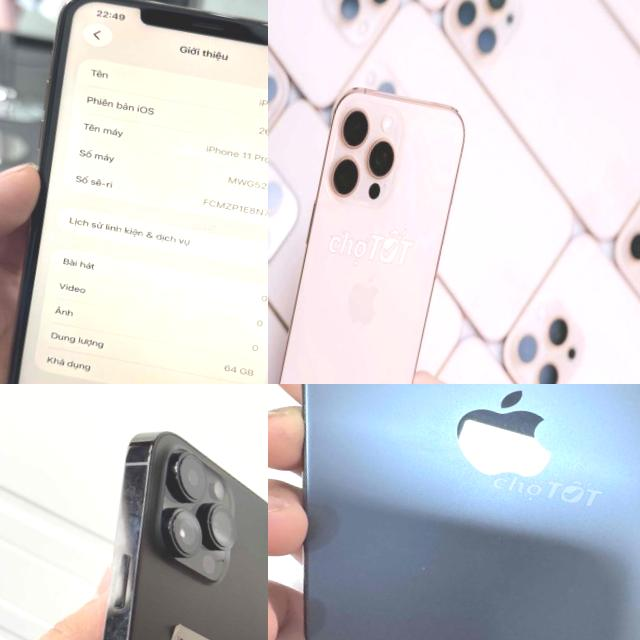scratch: (89, 469, 162, 640), (412, 558, 434, 576), (488, 530, 506, 542)
